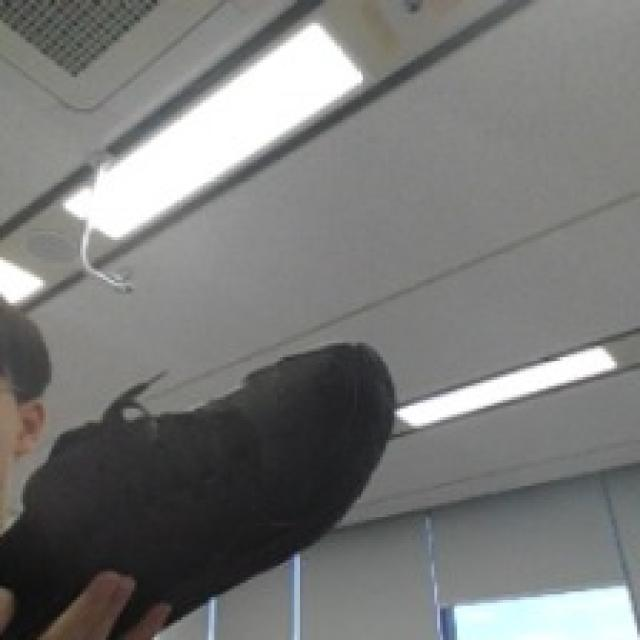shoe: (0, 340, 397, 637)
